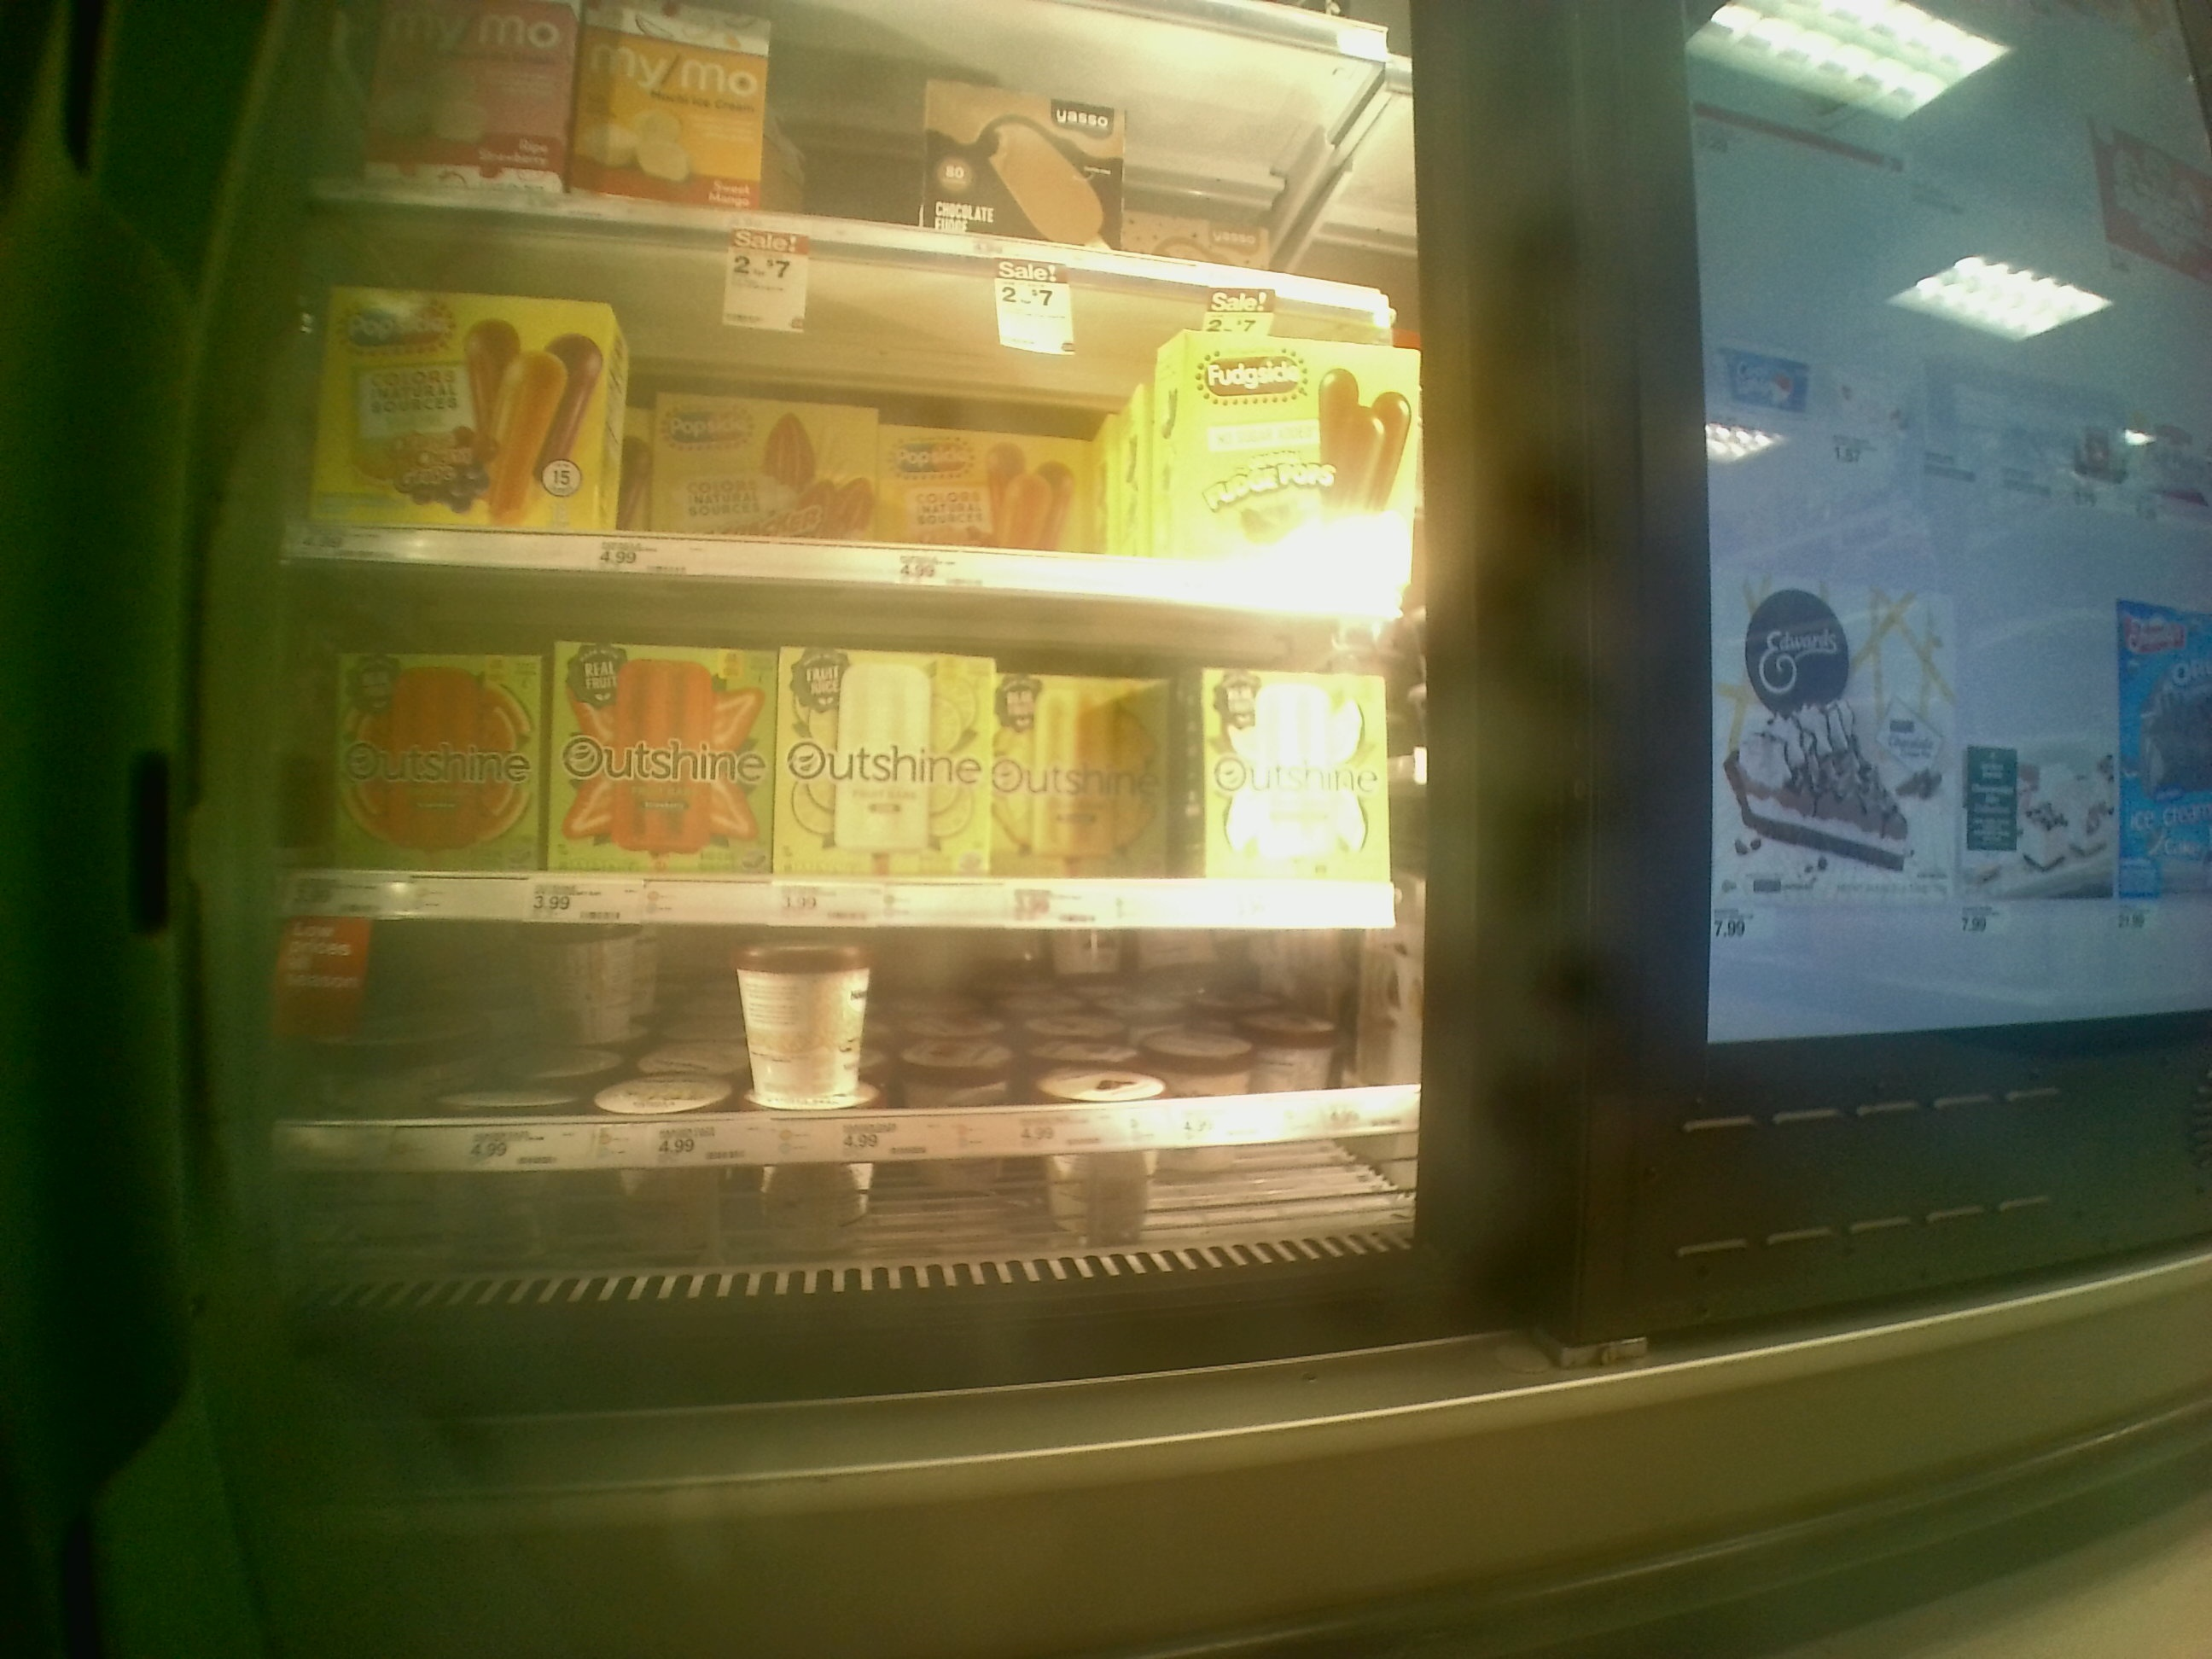ice-cream-shelf: (275, 563, 1428, 927), (273, 918, 1416, 1161)
